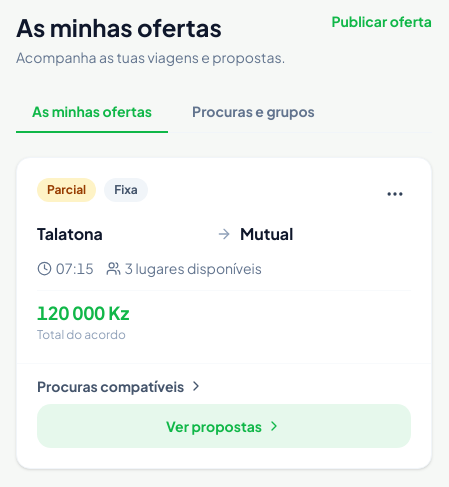
DriverDashboard — marketplace › mostra Editar e Despublicar quando oferta activa
Expected: the text "Talatona" is shown, top-left (37, 223), bottom-right (103, 244)
Click the button named "Mais acções". click: click(395, 194)
box: top-left (379, 178), bottom-right (411, 210)
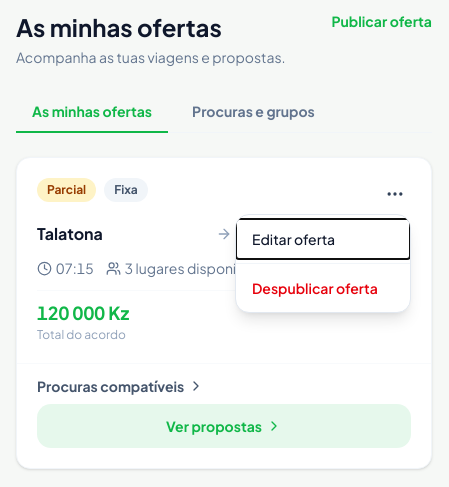
Expected: the menu item "Editar oferta" is shown, top-left (236, 219), bottom-right (410, 259)
Expected: the menu item "Despublicar oferta" is shown, top-left (236, 268), bottom-right (410, 308)
